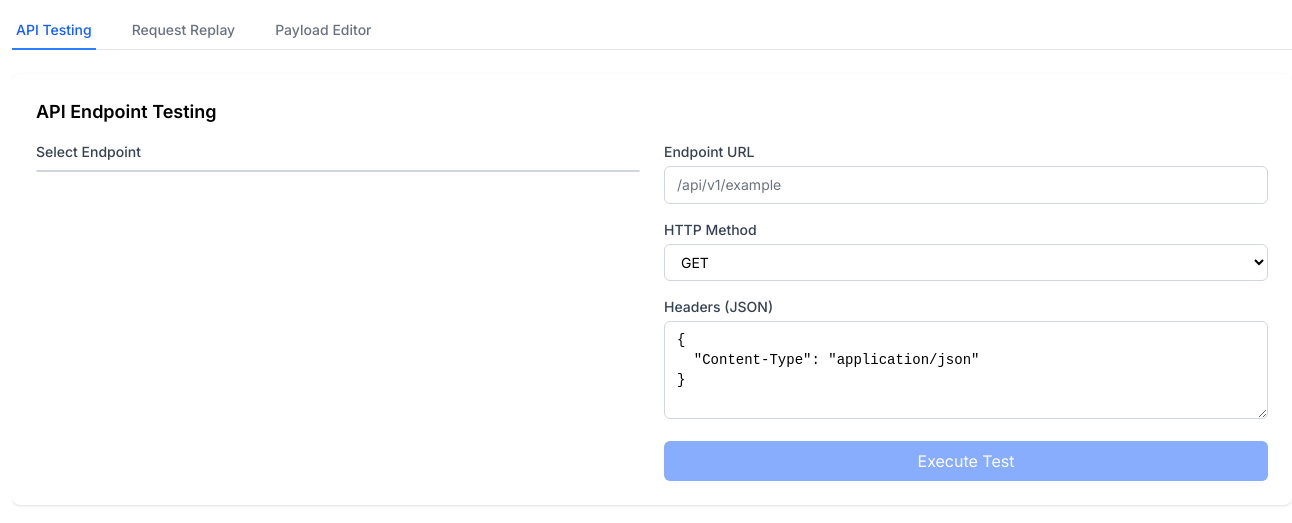
DebuggingToolsInterface › switches to Payload Editor tab
Click the button "Payload Editor" at (323, 31), box [271,12,376,50]
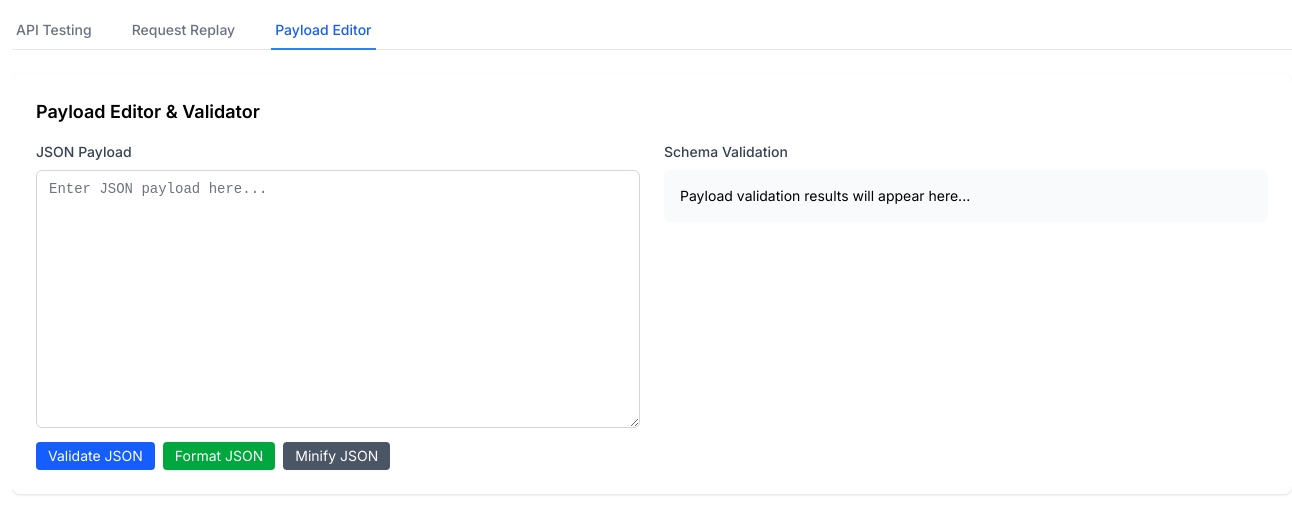
Expected: the heading "Payload Editor & Validator" is shown, [36,101,260,122]
Expected: the text "JSON Payload" is shown, [36,143,132,160]
Expected: the text "Schema Validation" is shown, [664,143,788,160]
